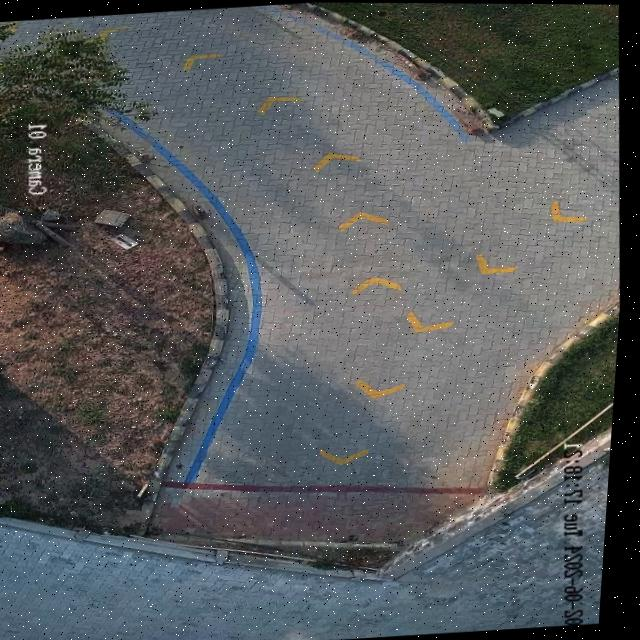No Car: (0, 2, 624, 640)
